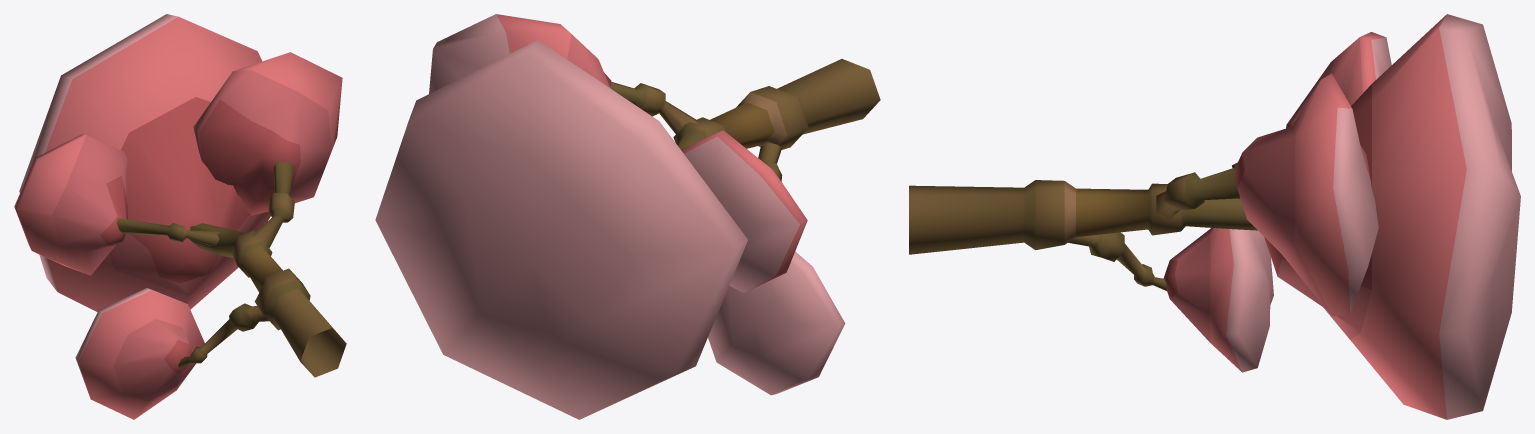
Rendered from TreePink.fbx.
3 views of the same model, side by side, from view 1: azimuth 30°, elevation 25°; view 2: azimuth 150°, elevation 25°; view 3: azimuth 270°, elevation 25° (orthographic). The views are drawn at different scales.
Visible parts, largest first — view 1: TreePinkA; view 2: TreePinkA; view 3: TreePinkA.
Boxes of the visible parts, bbox=[...] form: TreePinkA: bbox=[14, 14, 346, 419]; TreePinkA: bbox=[375, 14, 880, 419]; TreePinkA: bbox=[909, 14, 1520, 419].
Size of the model in its own units: 2.81 by 2.67 by 3.55.
